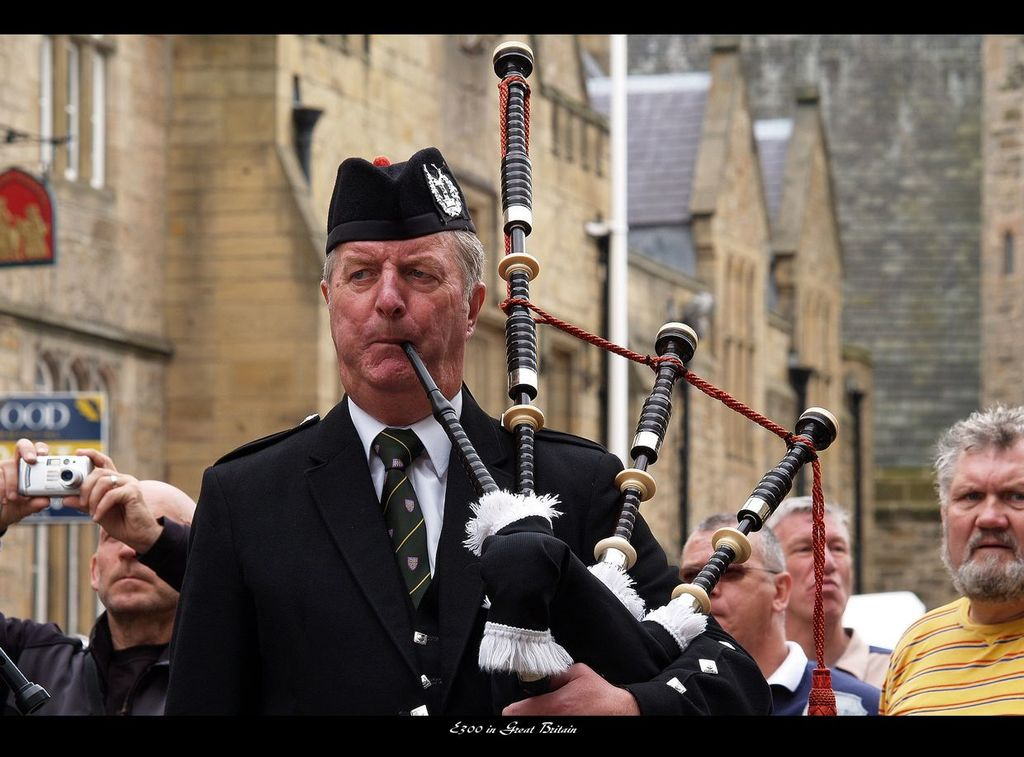face: (684, 531, 773, 637)
